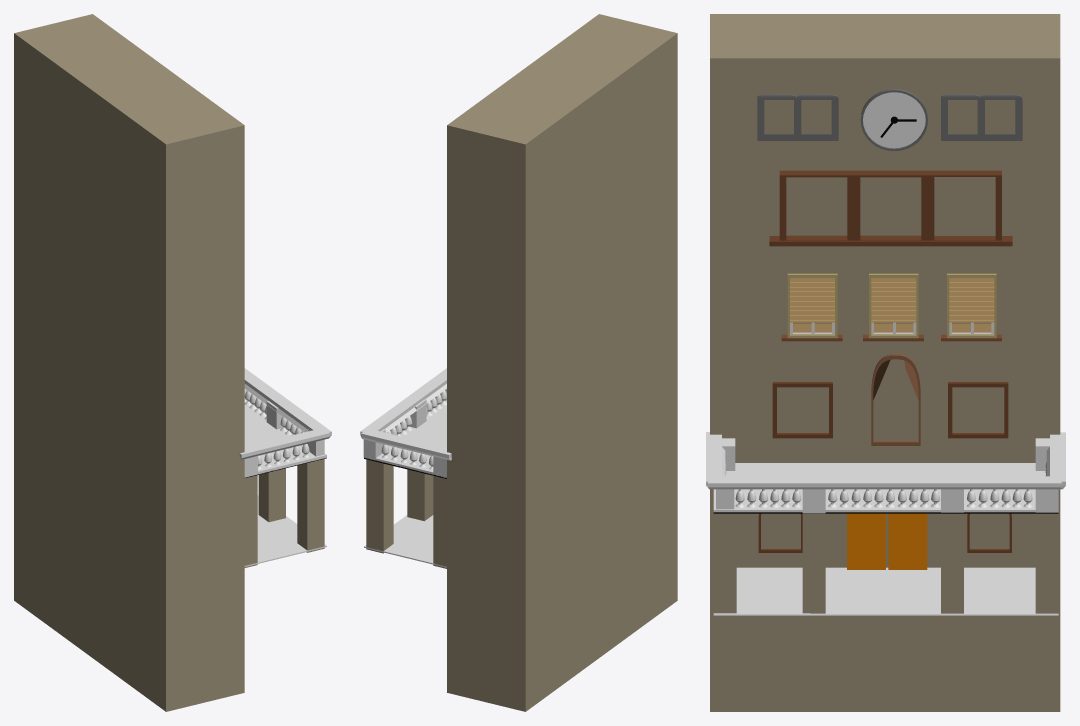
File: puerta_san_lorenzo.fbx
3 views of the same model, side by side, from view 1: azimuth 30°, elevation 25°; view 2: azimuth 150°, elevation 25°; view 3: azimuth 270°, elevation 25° (orthographic). The views are drawn at different scales.
Visible parts, largest first — view 1: Cubo.018, Cubo.003, Cube, Suelo, Cubo.016, Cubo, Cubo.006, Cubo.015; view 2: Cubo.018, Cubo.001, Cube, Suelo, Cubo.016, Cubo.007, Cubo.002, Cubo.010; view 3: Cubo.018, Cube, Suelo, Cube.004, Cubo.016, Cylinder, Cube.012, Cube.013, Cubo.001, Cubo, Cubo.003, Cube.016 (+18 smaller).
Boxes of the visible parts, x1=… form: Cubo.018: x1=14, y1=14, x2=244, y2=711; Cubo.003: x1=297, y1=459, x2=324, y2=552; Cube: x1=244, y1=495, x2=326, y2=566; Suelo: x1=244, y1=401, x2=326, y2=477; Cubo.016: x1=244, y1=368, x2=331, y2=437; Cubo: x1=258, y1=468, x2=285, y2=522; Cubo.006: x1=244, y1=475, x2=257, y2=567; Cubo.015: x1=239, y1=430, x2=329, y2=459; Cubo.018: x1=447, y1=14, x2=677, y2=711; Cubo.001: x1=366, y1=459, x2=393, y2=553; Cube: x1=364, y1=515, x2=446, y2=567; Suelo: x1=364, y1=401, x2=446, y2=477; Cubo.016: x1=360, y1=368, x2=446, y2=435; Cubo.007: x1=433, y1=476, x2=446, y2=568; Cubo.002: x1=407, y1=469, x2=433, y2=521; Cubo.010: x1=361, y1=428, x2=451, y2=460; Cubo.018: x1=710, y1=14, x2=1060, y2=711; Cube: x1=713, y1=567, x2=1058, y2=615; Suelo: x1=713, y1=463, x2=1045, y2=512; Cube.004: x1=779, y1=170, x2=1001, y2=240; Cubo.016: x1=708, y1=476, x2=1062, y2=489; Cylinder: x1=863, y1=92, x2=925, y2=148; Cube.012: x1=871, y1=278, x2=916, y2=332; Cube.013: x1=949, y1=278, x2=994, y2=332; Cubo.001: x1=1035, y1=513, x2=1058, y2=613; Cubo: x1=802, y1=513, x2=825, y2=613; Cubo.003: x1=713, y1=513, x2=736, y2=613; Cube.016: x1=790, y1=278, x2=834, y2=332.
Bounding box in the file's own units: 1906 × 6271 × 3128.
